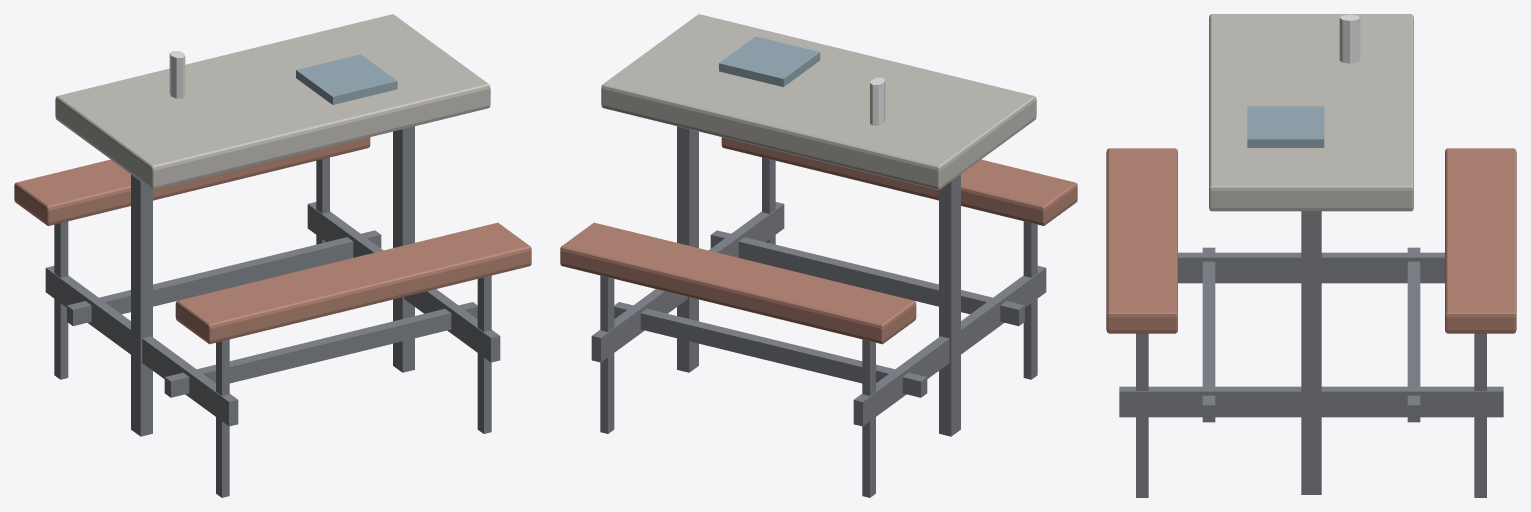
Rendered from prop_table.fbx.
3 views of the same model, side by side, from view 1: azimuth 30°, elevation 25°; view 2: azimuth 150°, elevation 25°; view 3: azimuth 270°, elevation 25° (orthographic). The views are drawn at different scales.
Parts seen in each view (by area): view 1: prop_table; view 2: prop_table; view 3: prop_table.
Boxes of the visible parts, box(x1,y1,x2,y2) form: prop_table: box(14, 14, 531, 497); prop_table: box(560, 14, 1077, 497); prop_table: box(1106, 14, 1516, 497).
Size of the model in its own units: 1 by 1 by 1.
